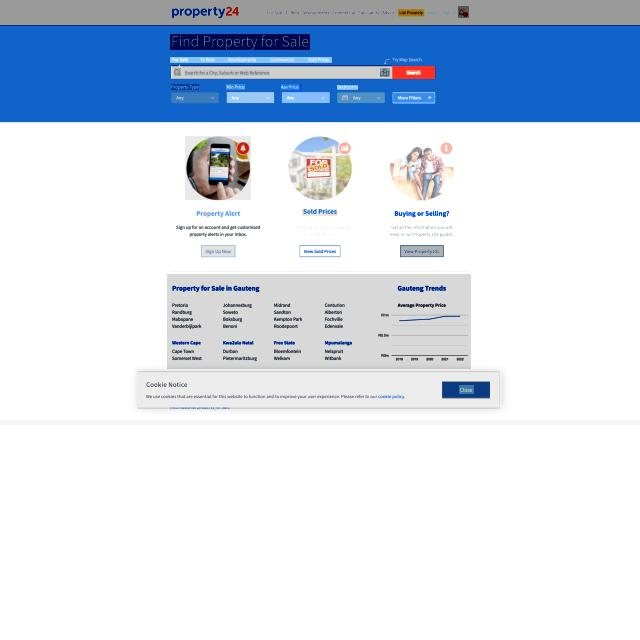CheckBox: (444, 381, 492, 399), (392, 66, 436, 79), (400, 245, 444, 257), (300, 245, 340, 257), (201, 245, 236, 257)
CheckedTextView: (172, 65, 392, 79)
Input field: (146, 392, 408, 402), (175, 224, 262, 238), (388, 224, 454, 238), (290, 225, 351, 237)
QR code: (167, 274, 471, 369)
RadioButton: (236, 142, 250, 155), (338, 142, 352, 155), (440, 141, 453, 155)
alert: (171, 92, 219, 103), (282, 92, 330, 103), (337, 92, 385, 103), (227, 92, 274, 103), (393, 92, 435, 104)
bag: (0, 0, 640, 26)
breadcrumbs: (147, 379, 190, 390), (394, 210, 449, 218), (302, 210, 337, 218), (196, 211, 241, 217)
carousel: (458, 6, 469, 18), (380, 68, 390, 77), (174, 68, 181, 76)
copy: (185, 136, 251, 200), (288, 135, 352, 201), (390, 136, 454, 200)
data feed: (404, 248, 439, 254), (302, 249, 336, 254), (171, 84, 199, 90), (205, 249, 232, 254), (461, 385, 476, 394), (282, 84, 302, 90), (226, 84, 245, 90), (337, 85, 358, 90), (406, 70, 421, 75)
date picker: (170, 2, 241, 22)
decoration: (266, 8, 458, 17), (170, 57, 332, 63)
footer: (184, 70, 270, 76)
header: (138, 371, 502, 409)
image: (170, 34, 310, 50)
